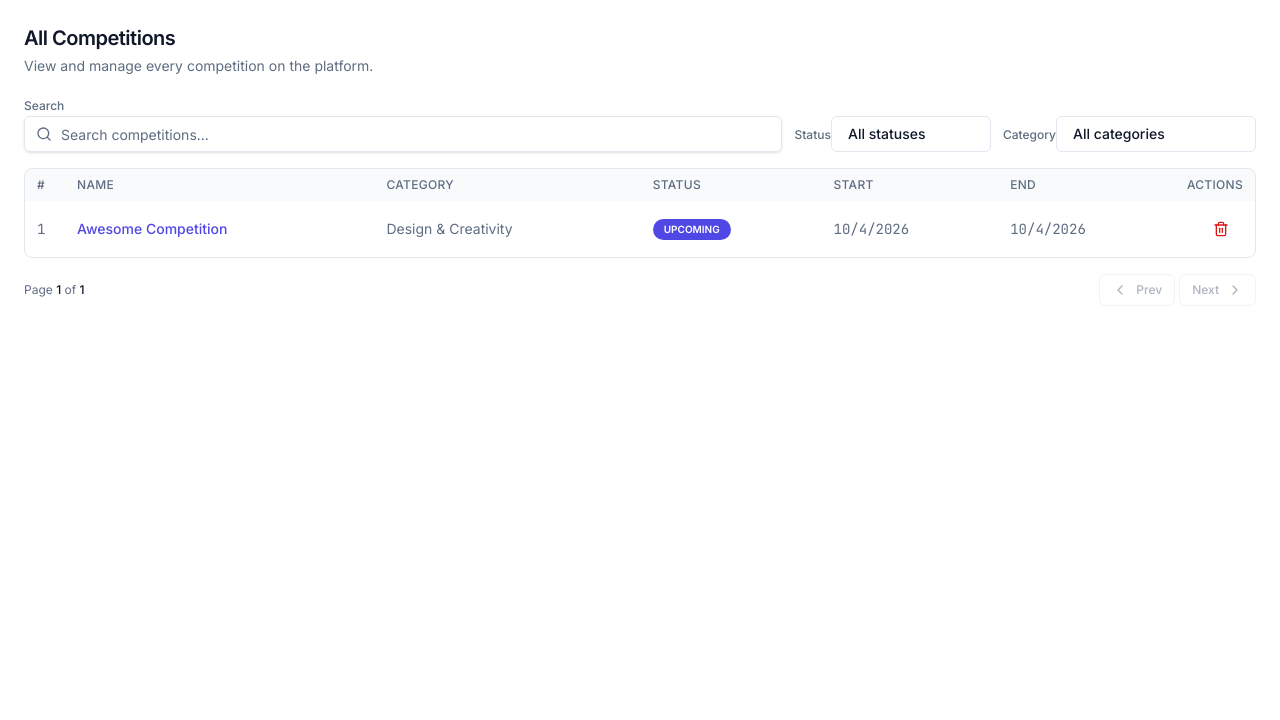
Test: AdminCompetitionsManage › opens competition detail dialog on click
Click the button "Awesome Competition" at (152, 229), box left=77, top=219, right=228, bottom=239
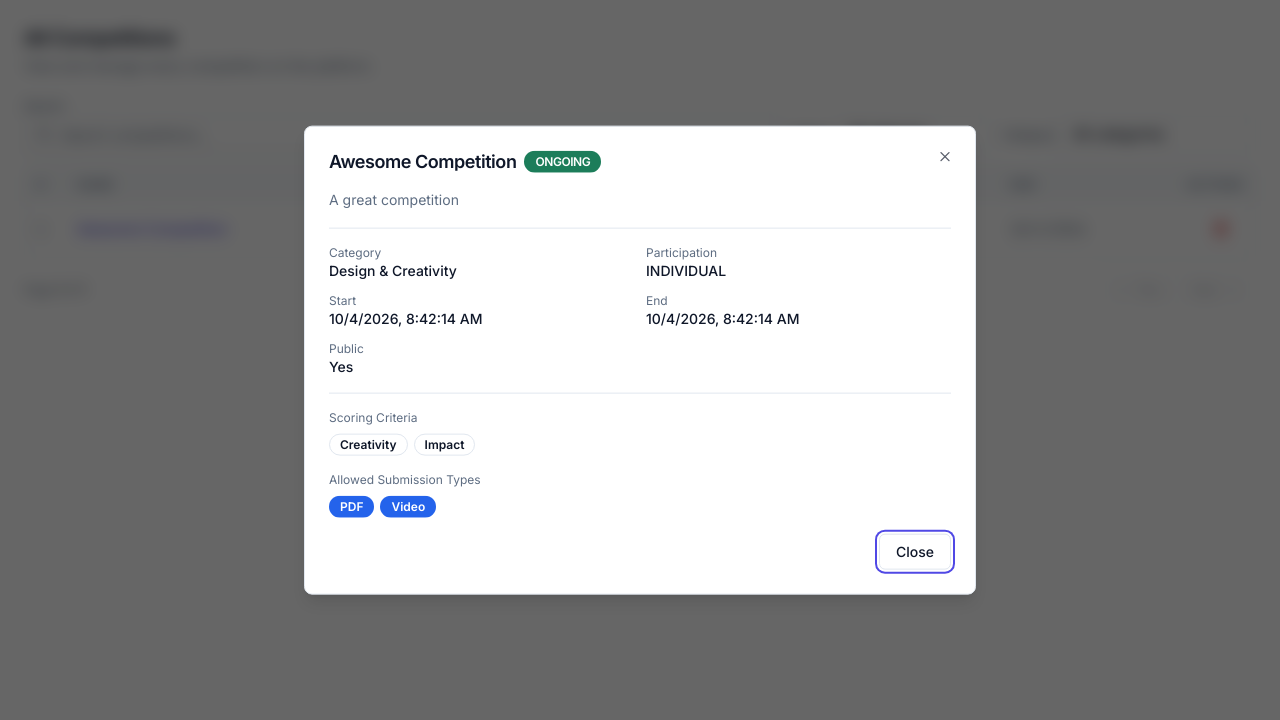
Check: the text "A great competition" is shown, box left=329, top=191, right=459, bottom=208
Check: the text "Category" is shown, box left=329, top=244, right=381, bottom=259
